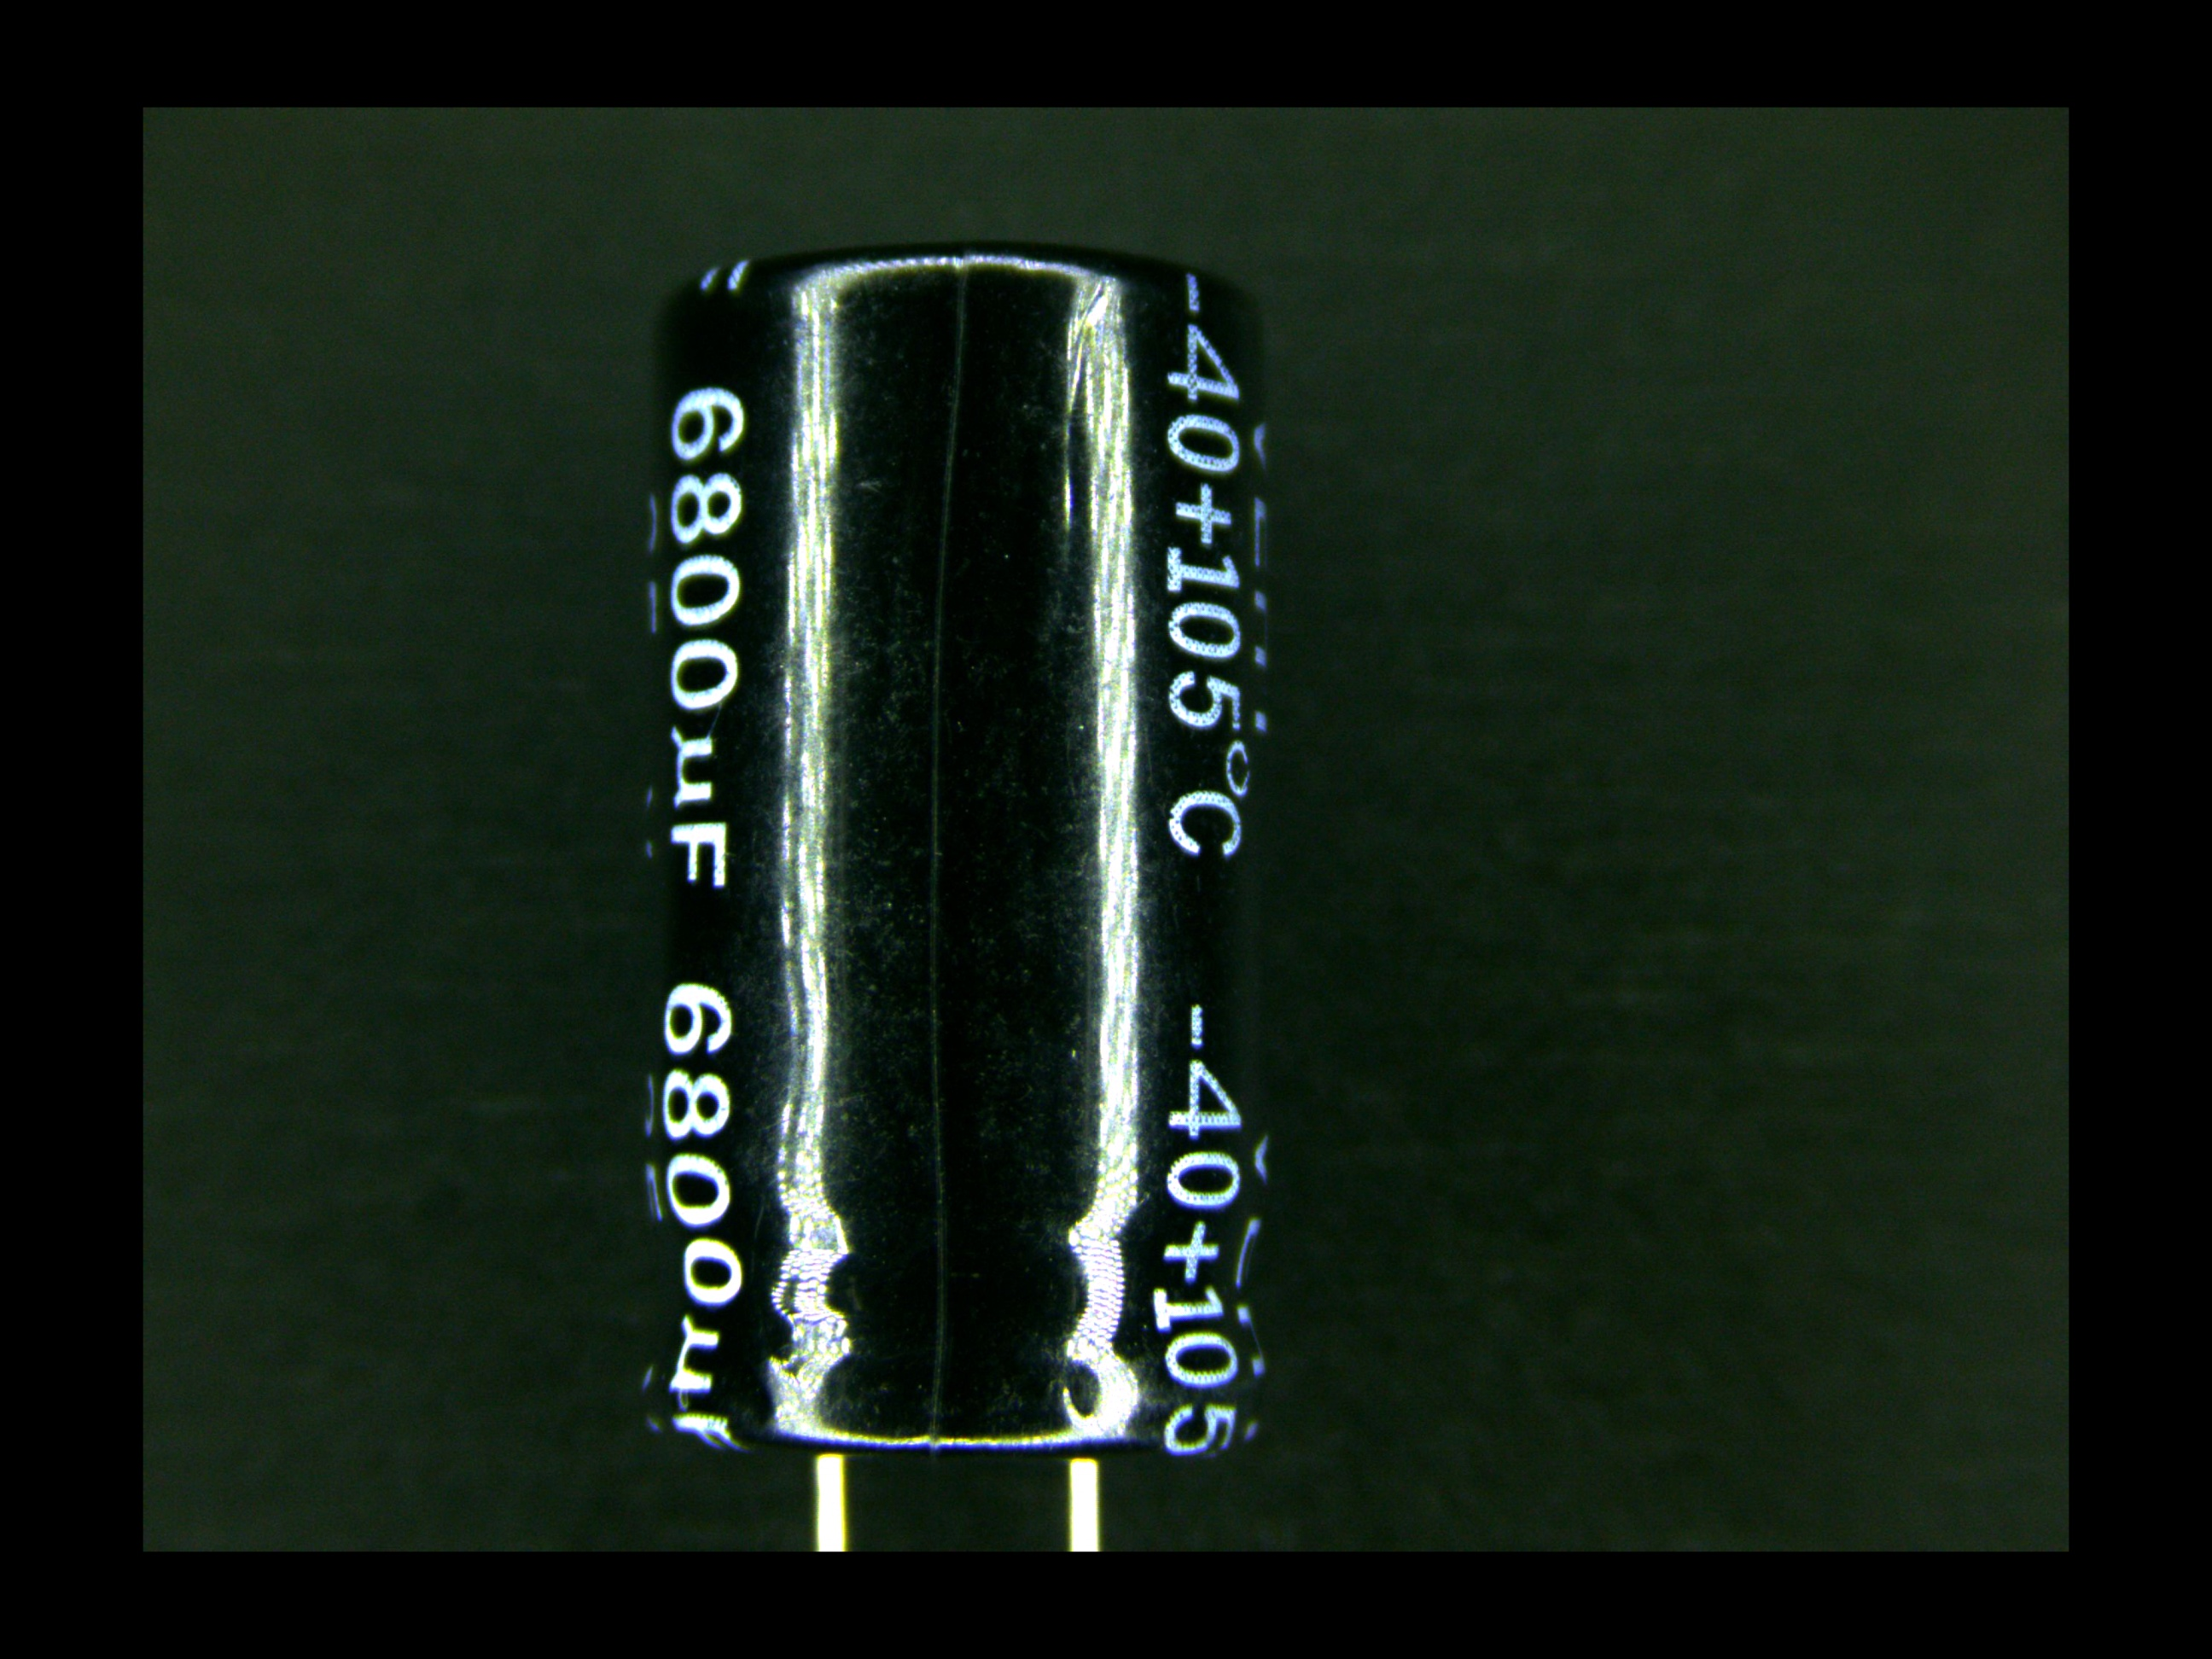c3: (634, 244, 1278, 1530)
